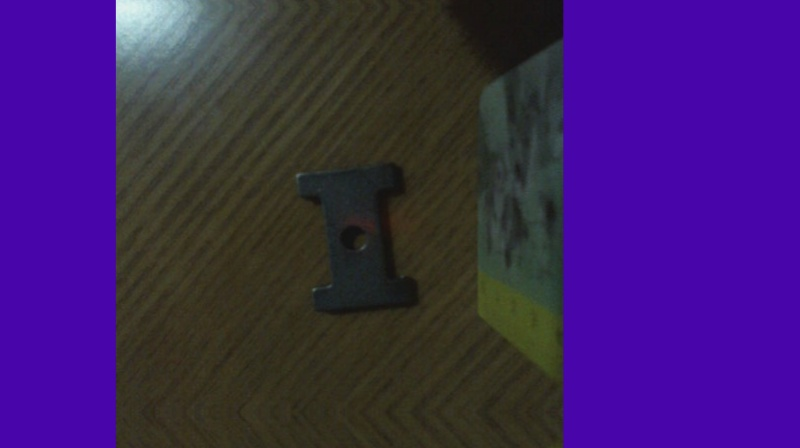O002: (295, 164, 419, 315)
